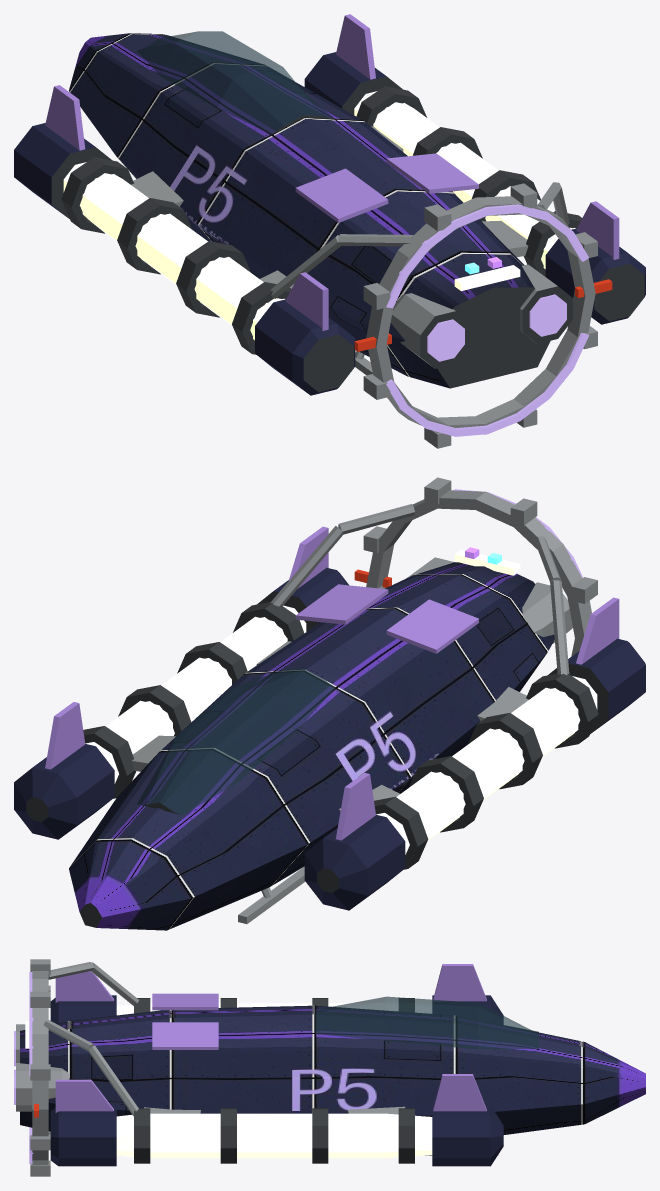
Rendered from corona.glb.
The picture shows the model from 3 angles, top to bottom: view 1: azimuth 30°, elevation 25°; view 2: azimuth 150°, elevation 25°; view 3: azimuth 270°, elevation 25°; orthographic projection. The views are drawn at different scales.
Visible parts, largest first — view 1: body_static, stabiliser_ring_body, airbrake_L_body, airbrake_R_body, steering_fin_L_body, steering_fin_R_body, elevon_L_body, elevon_R_body; view 2: body_static, stabiliser_ring_body, airbrake_L_body, airbrake_R_body, steering_fin_R_body, steering_fin_L_body, elevon_L_body, skids_body, elevon_R_body; view 3: body_static, stabiliser_ring_body, airbrake_R_body, steering_fin_R_body, steering_fin_L_body, elevon_R_body, elevon_L_body, airbrake_L_body.
Part boxes in pixels (box(x1,y1,x2,y2)): body_static: box(14, 31, 645, 395); stabiliser_ring_body: box(363, 183, 597, 448); airbrake_L_body: box(295, 168, 388, 222); airbrake_R_body: box(386, 153, 478, 193); steering_fin_L_body: box(45, 85, 85, 150); steering_fin_R_body: box(336, 14, 375, 79); elevon_L_body: box(285, 272, 328, 330); elevon_R_body: box(576, 201, 619, 259); body_static: box(14, 504, 645, 930); stabiliser_ring_body: box(363, 477, 597, 656); airbrake_L_body: box(386, 599, 478, 653); airbrake_R_body: box(295, 584, 388, 624); steering_fin_R_body: box(45, 702, 85, 769); steering_fin_L_body: box(336, 773, 375, 840); elevon_L_body: box(576, 597, 619, 664); skids_body: box(238, 866, 304, 923); elevon_R_body: box(288, 526, 328, 588); body_static: box(14, 962, 645, 1166); stabiliser_ring_body: box(29, 959, 50, 1176); airbrake_R_body: box(152, 1022, 218, 1049); steering_fin_R_body: box(433, 1074, 486, 1111); steering_fin_L_body: box(433, 964, 486, 1001); elevon_R_body: box(55, 1079, 113, 1112); elevon_L_body: box(55, 971, 113, 1002); airbrake_L_body: box(152, 993, 218, 1010).
Bounding box in the file's own units: 3.14 × 1.95 × 6.21.
10 materials, 1 textured.
